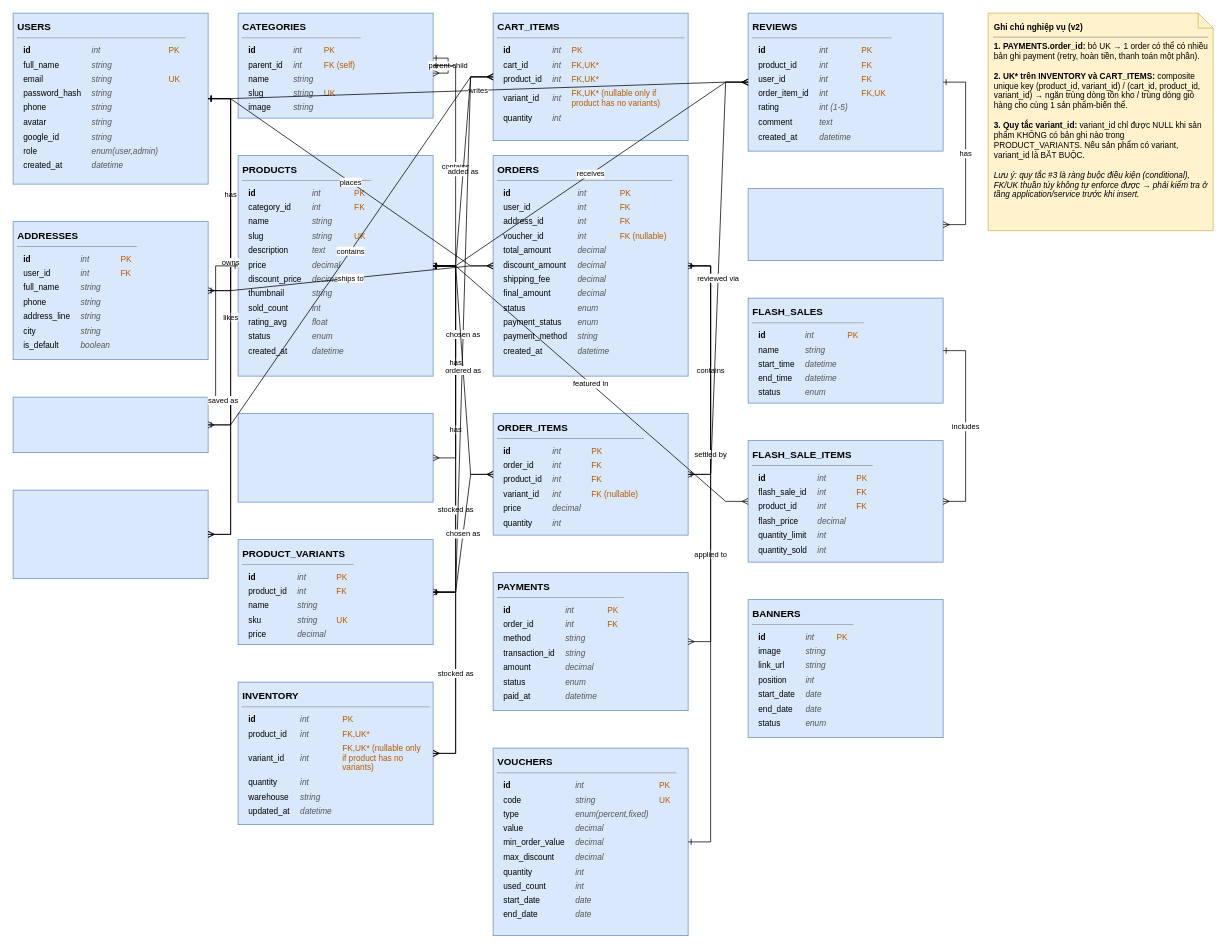
Some shapes in this 1226 by 949 pixel diagram are drawn without their labels. Each missing label, with the box of its shape:
CARTS id int PK user_id int FK,UK: (12, 396, 208, 453)
PRODUCT_IMAGES id int PK product_id int FK url string sort_order int: (237, 413, 433, 502)
REVIEW_IMAGES id int PK review_id int FK url string: (747, 188, 943, 261)
WISHLISTS id int PK user_id int FK product_id int FK created_at datetime: (12, 489, 208, 579)
